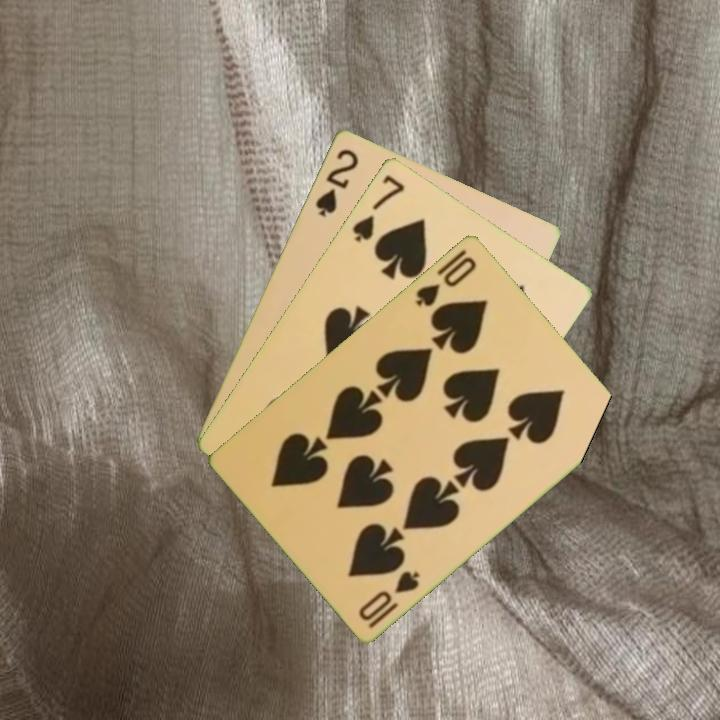10s: (354, 566, 423, 631), (411, 252, 480, 309)
2s: (311, 144, 362, 220)
7s: (348, 170, 408, 245)
